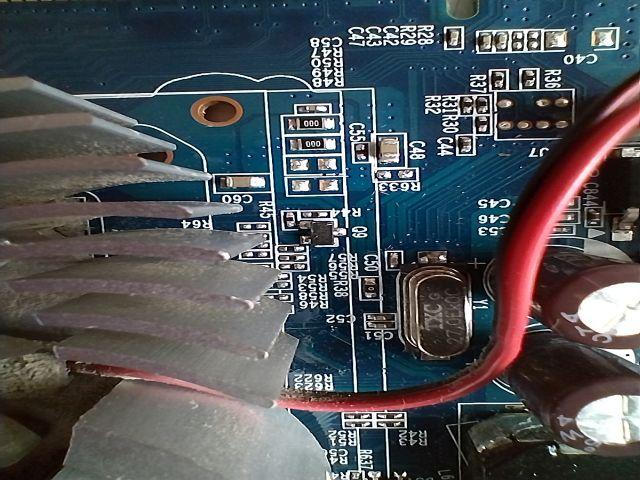capacitor: (208, 167, 277, 205), (368, 124, 413, 172)
